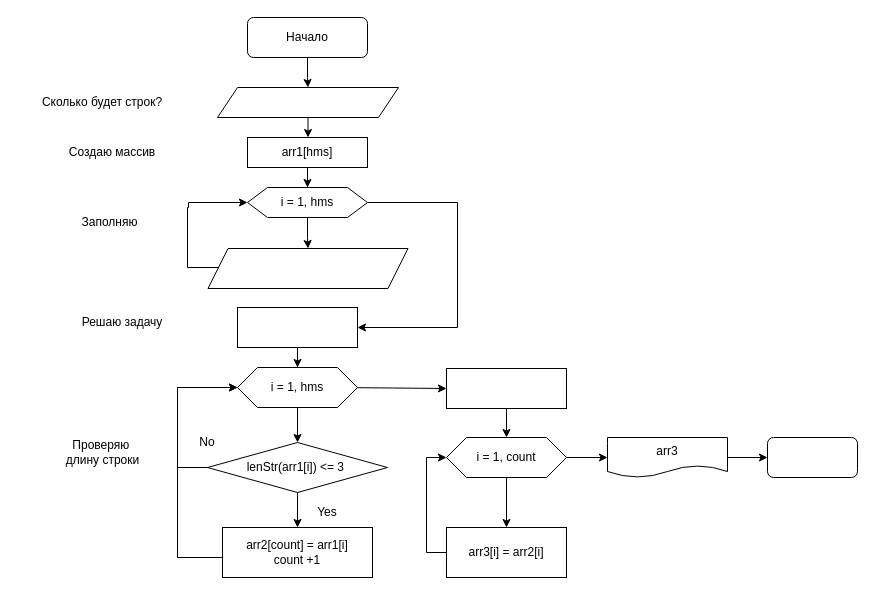
The diagram is 875 pixels wide and 595 high, and some of its shapes have lost their labels. Each missing label, with the centre of its shape:
"arr1[i] = ReadLine" goes at (307,268).
"arr2[hms] count=0" goes at (297,327).
"arr3[count]" goes at (506,388).
"hms = HowManyStr" goes at (307,102).
"Конец" goes at (812,457).
